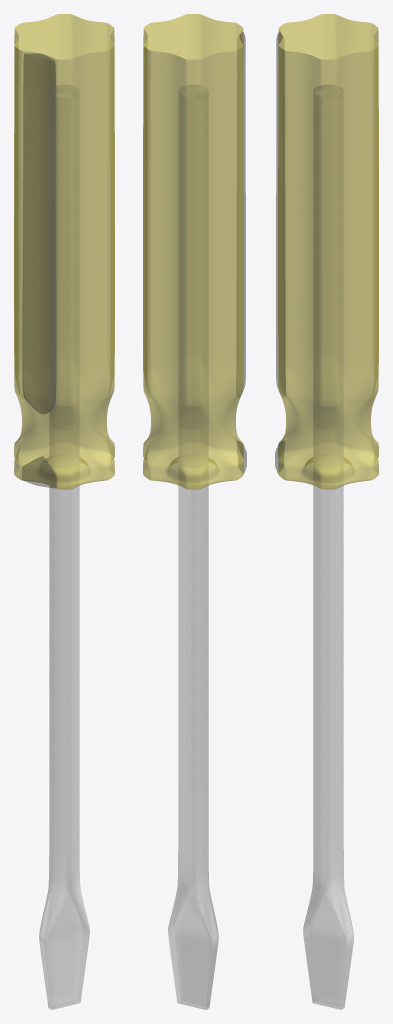
The model's file is screwdriver.gltf.
The picture shows the model from 3 angles, left to right: view 1: azimuth 30°, elevation 25°; view 2: azimuth 150°, elevation 25°; view 3: azimuth 330°, elevation 25°; orthographic projection.
Parts seen in each view (by area): view 1: 10287_Flat_Head_Screwdriver_v2_iterations-2; view 2: 10287_Flat_Head_Screwdriver_v2_iterations-2; view 3: 10287_Flat_Head_Screwdriver_v2_iterations-2.
Boxes of the visible parts, x1,y1,x2,y2 form: 10287_Flat_Head_Screwdriver_v2_iterations-2: [14, 14, 114, 1009]; 10287_Flat_Head_Screwdriver_v2_iterations-2: [143, 14, 246, 1009]; 10287_Flat_Head_Screwdriver_v2_iterations-2: [275, 14, 378, 1009].
Bounding box in the file's own units: 0.2208 × 2.16 × 0.2038.
2 materials, 2 textured.
